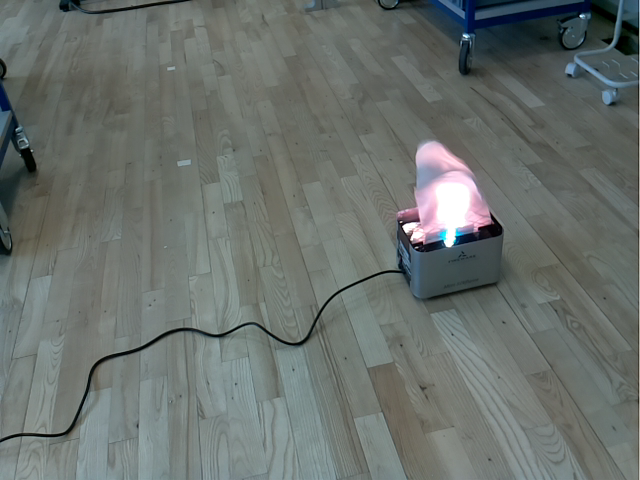fire: (410, 140, 493, 244)
